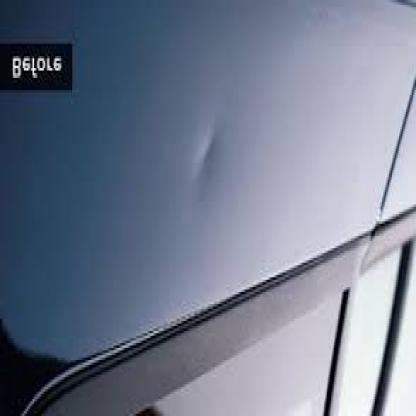dent: (190, 124, 226, 178)
